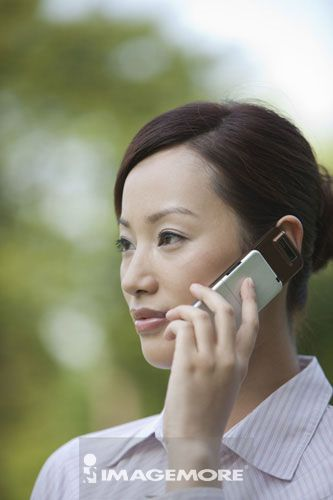phone: (184, 228, 300, 342)
talk: (116, 202, 302, 456)
